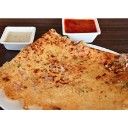dosa: (3, 29, 128, 111)
